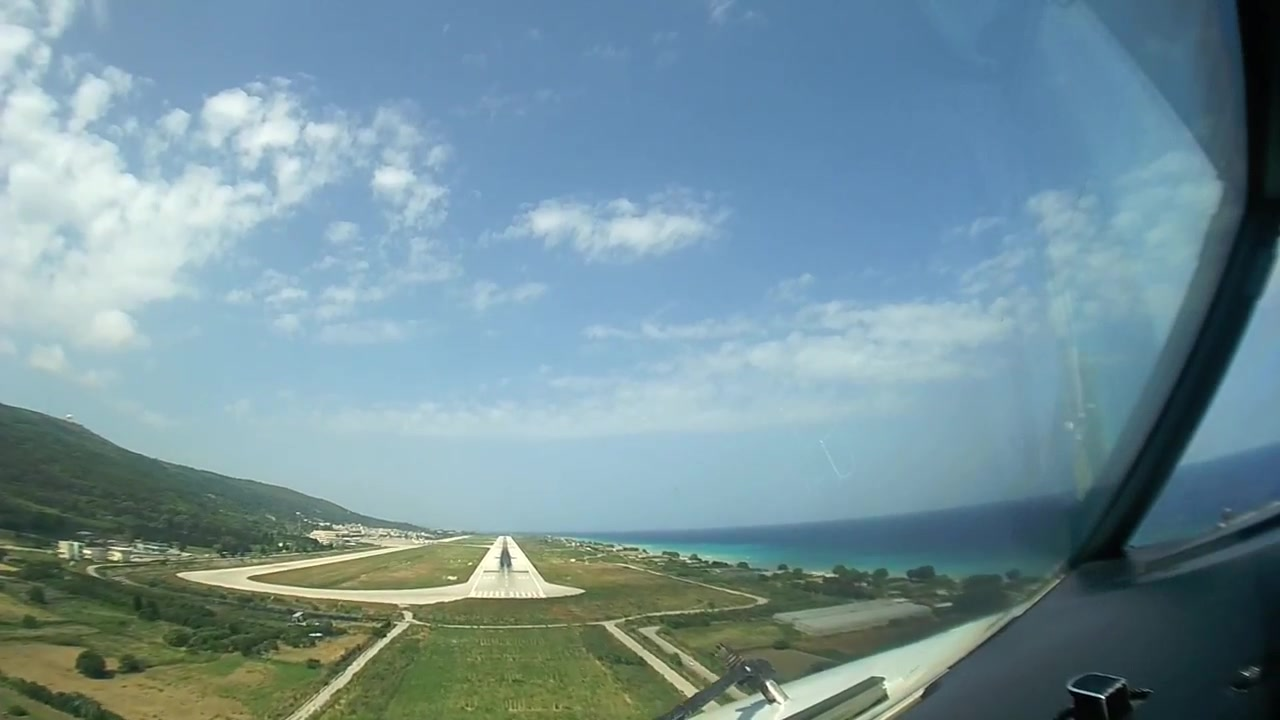entrance: (473, 588, 540, 600)
runway: (470, 532, 548, 603)
